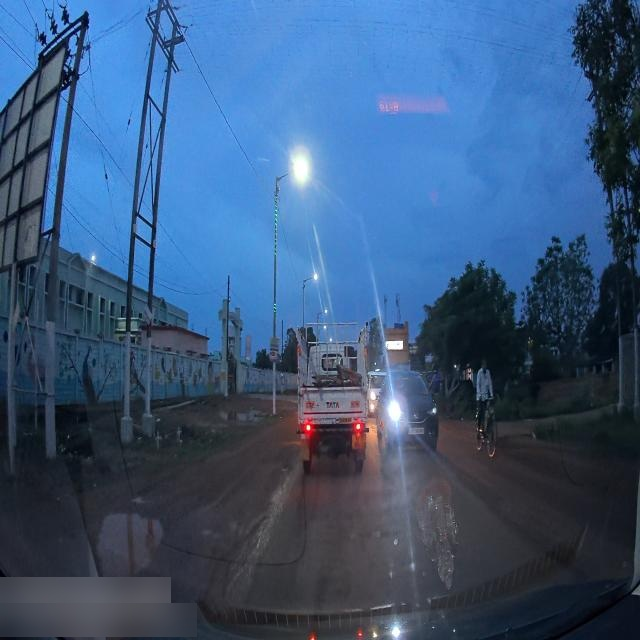pothole: (94, 512, 167, 589)
